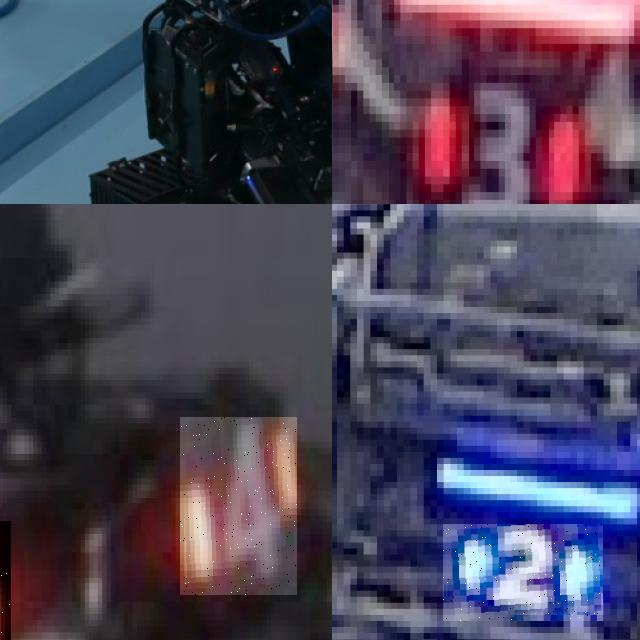B2: (444, 524, 604, 621)
R3: (391, 71, 600, 204)
R4: (180, 417, 297, 595)
